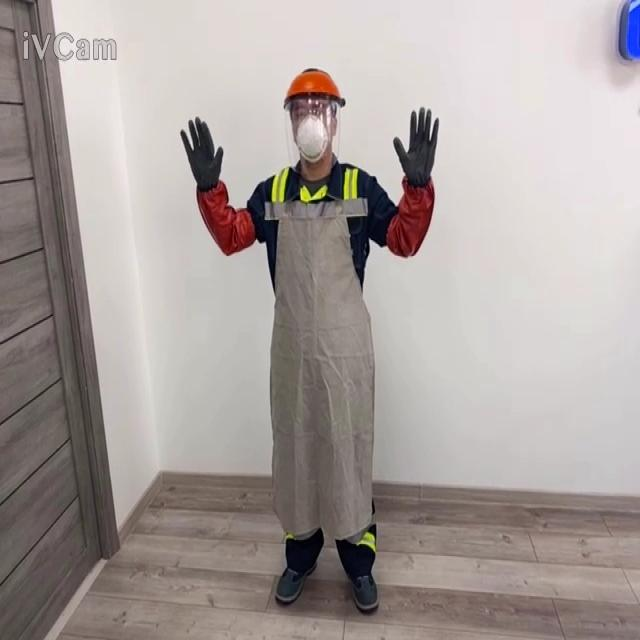Mask: (294, 110, 329, 162)
Protective apron: (263, 170, 376, 542)
Safety Shoes: (274, 560, 317, 603), (349, 572, 378, 611)
Sleeve: (195, 179, 256, 256), (385, 174, 434, 258)
gloves: (393, 105, 439, 187), (179, 116, 223, 192)
